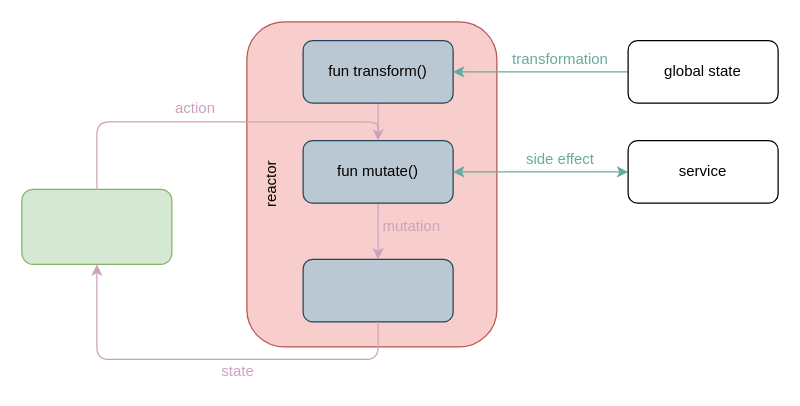
Some shapes in this 800 by 406 pixel diagram are drawn without their labels. Each missing label, with the box of its shape:
fun reduce(): (302, 258, 453, 322)
view: (21, 188, 172, 264)
